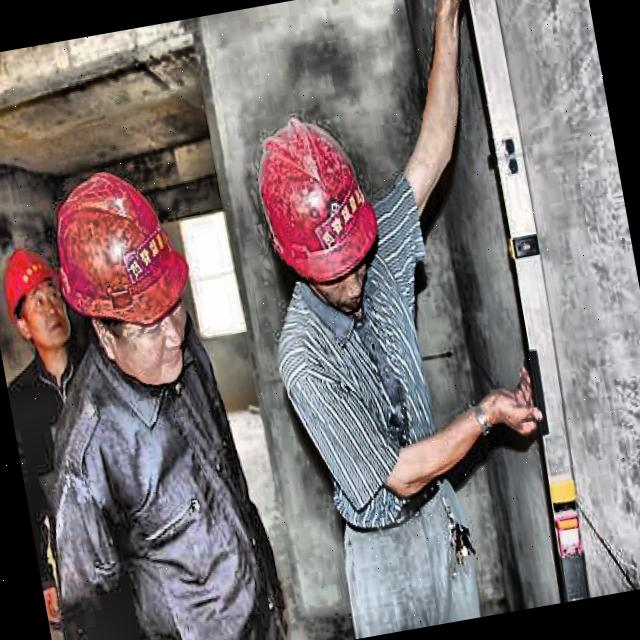helmet: (37, 146, 218, 408), (231, 93, 394, 334), (0, 236, 75, 361)
